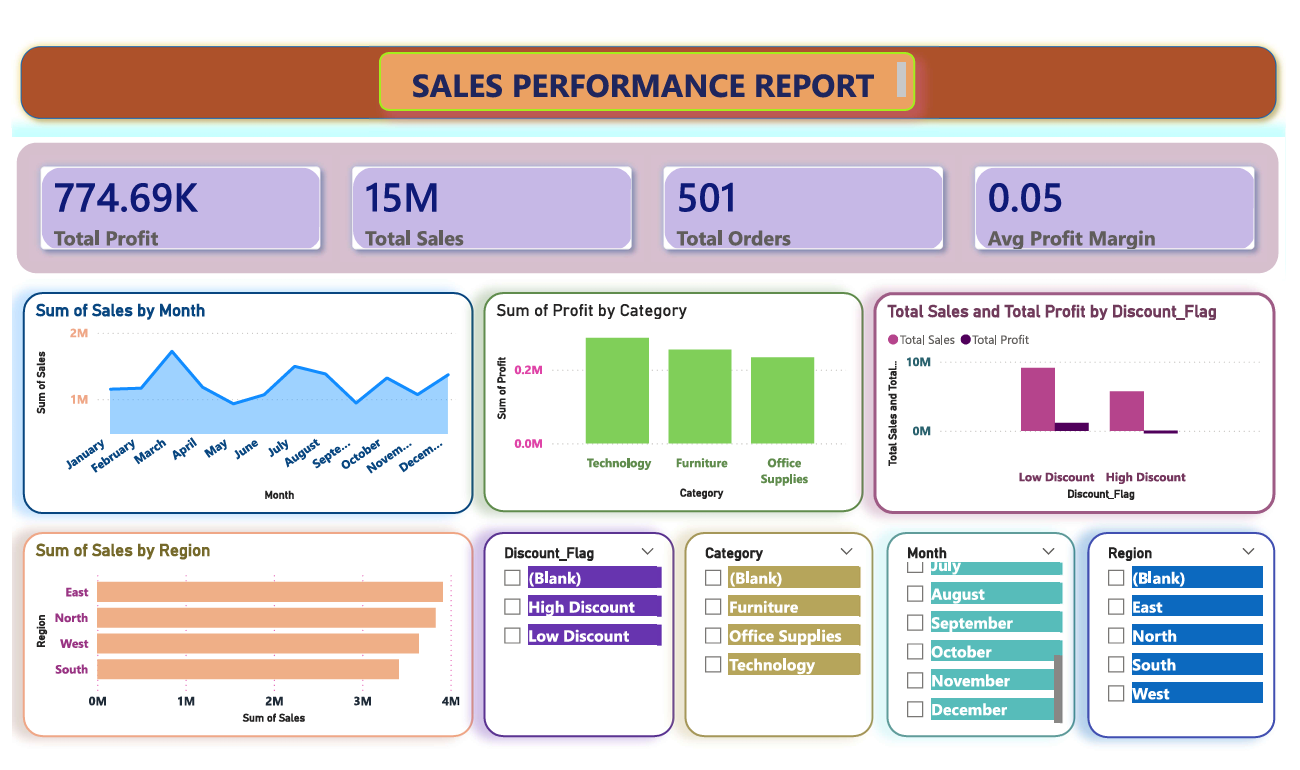

Layout of this report page (visuals, bound fields, positions):
{"tool":"powerbi","page":{"name":"Page 1","canvas":[1280,720],"ordinal":0},"visuals":[{"type":"cardVisual","fields":{"Data":["Sales_data.Total Profit","Sales_data.Total Sales","Sales_data.Total Orders","Sales_data.Avg Profit Margin"]},"box":[0,101.4,1280,141.4],"z":0},{"type":"shape","box":[0,0,1280.3,90.6],"z":1000},{"type":"lineChart","fields":{"Y":["Sum(Sales_data.Sales)"],"Category":["Sales_data.Order_Date.Variation.Date Hierarchy.Month"]},"box":[11.4,255.7,452.9,222.9],"z":2000},{"type":"barChart","fields":{"Category":["Sales_data.Region"],"Y":["Sum(Sales_data.Sales)"]},"box":[11.4,497.1,452.9,205.7],"z":3000},{"type":"clusteredColumnChart","fields":{"Category":["Sales_data.Category"],"Y":["Sum(Sales_data.Profit)"]},"box":[474.3,255.7,381.4,221.4],"z":4000},{"type":"clusteredColumnChart","fields":{"Category":["Sales_data.Discount_Flag"],"Y":["Sales_data.Total Sales","Sales_data.Total Profit"]},"box":[865.7,255.7,404.3,222.9],"z":5000},{"type":"slicer","fields":{"Values":["Sales_data.Discount_Flag"]},"box":[474.3,497.1,191.4,205.7],"z":6000},{"type":"slicer","fields":{"Values":["Sales_data.Category"]},"box":[675.7,497.1,190,205.7],"z":7000},{"type":"slicer","fields":{"Values":["Sales_data.Order_Date.Variation.Date Hierarchy.Month"]},"box":[878.6,497.1,190,205.7],"z":8000},{"type":"slicer","fields":{"Values":["Sales_data.Region"]},"box":[1081.4,497.1,188.6,207.1],"z":9000},{"type":"textbox","box":[369.1,15.1,539.3,59],"z":10000}]}

Visuals, with their boxes in screenshot pixels (x1, y1, x2, y2):
cardVisual - Sales_data.Total Profit x Sales_data.Total Sales: 0/132/1282/274
shape: 0/30/1282/121
lineChart - Sum(Sales_data.Sales) x Sales_data.Order_Date.Variation.Date Hierarchy.Month: 11/287/465/510
barChart - Sales_data.Region x Sum(Sales_data.Sales): 11/528/465/734
clusteredColumnChart - Sales_data.Category x Sum(Sales_data.Profit): 475/287/857/508
clusteredColumnChart - Sales_data.Discount_Flag x Sales_data.Total Sales: 867/287/1272/510
slicer - Sales_data.Discount_Flag: 475/528/667/734
slicer - Sales_data.Category: 677/528/867/734
slicer - Sales_data.Order_Date.Variation.Date Hierarchy.Month: 880/528/1070/734
slicer - Sales_data.Region: 1083/528/1272/736
textbox: 370/46/910/105
